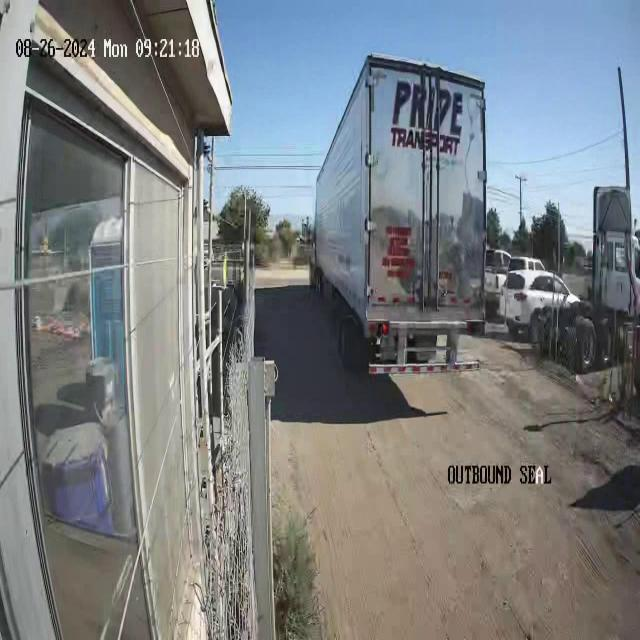TRUCK_OUT: (312, 51, 488, 372)
